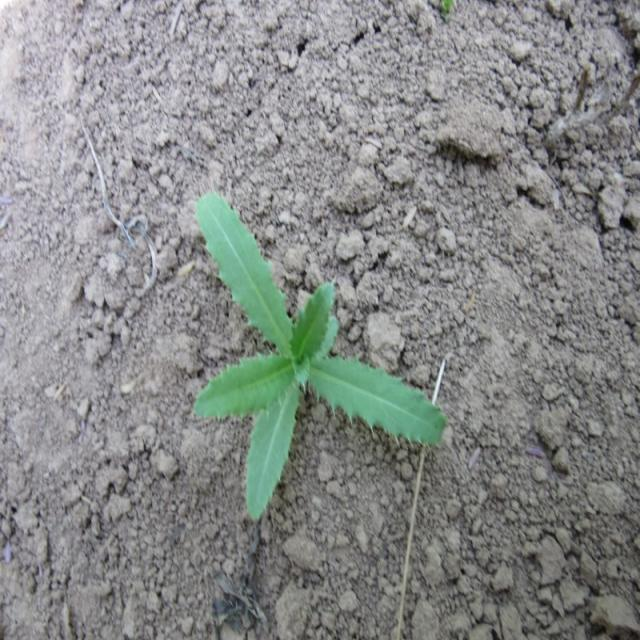field_thistle: (168, 187, 453, 514)
